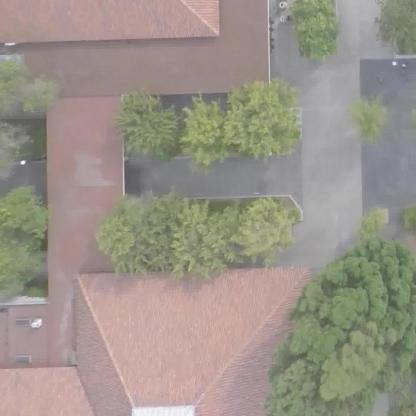Pedestrian: (401, 59, 415, 83)
